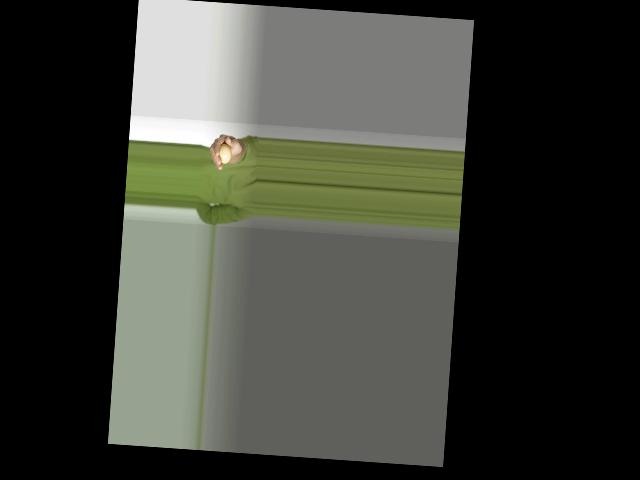egg: (218, 143, 231, 164)
